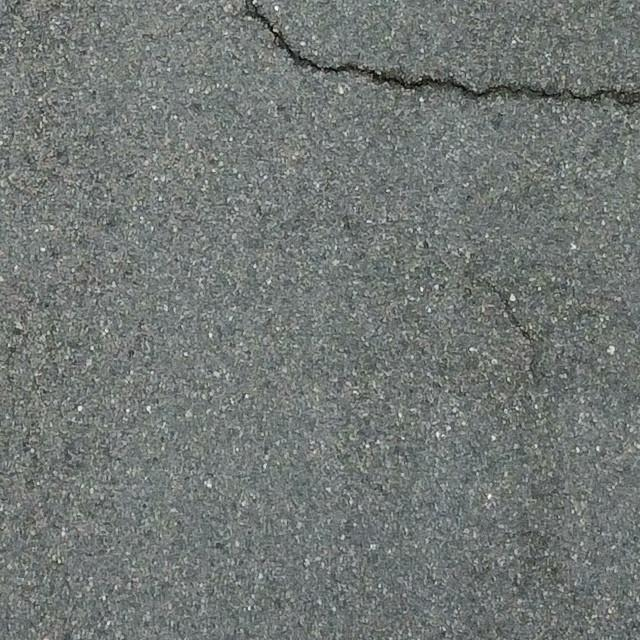TransverseCrack: (244, 1, 640, 108)
